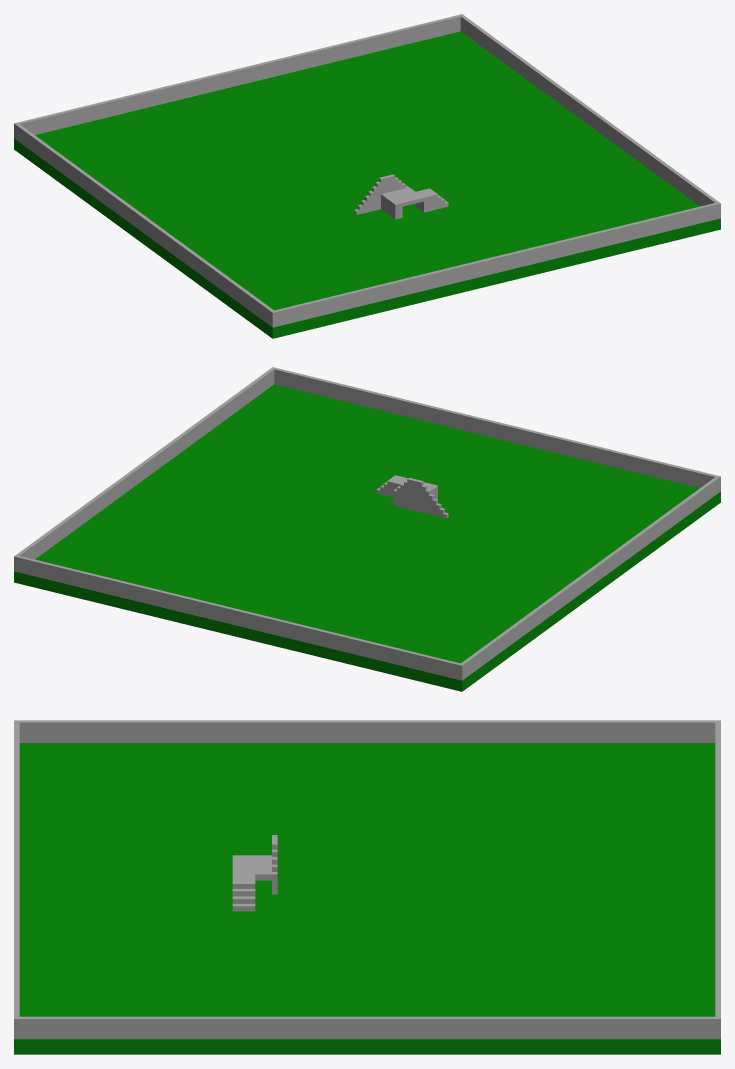
The model's file is Wayholt.obj.
3 renders of one model, top to bottom at view 1: azimuth 30°, elevation 25°; view 2: azimuth 150°, elevation 25°; view 3: azimuth 270°, elevation 25°, orthographic. The views are drawn at different scales.
Parts seen in each view (by area): view 1: Wayholt; view 2: Wayholt; view 3: Wayholt.
Boxes of the visible parts, x1=… form: Wayholt: x1=14, y1=14, x2=720, y2=338; Wayholt: x1=14, y1=367, x2=720, y2=691; Wayholt: x1=14, y1=720, x2=720, y2=1054.
Size of the model in its own units: 126 by 11 by 126.
Materials: 1 (1 with a texture image).
